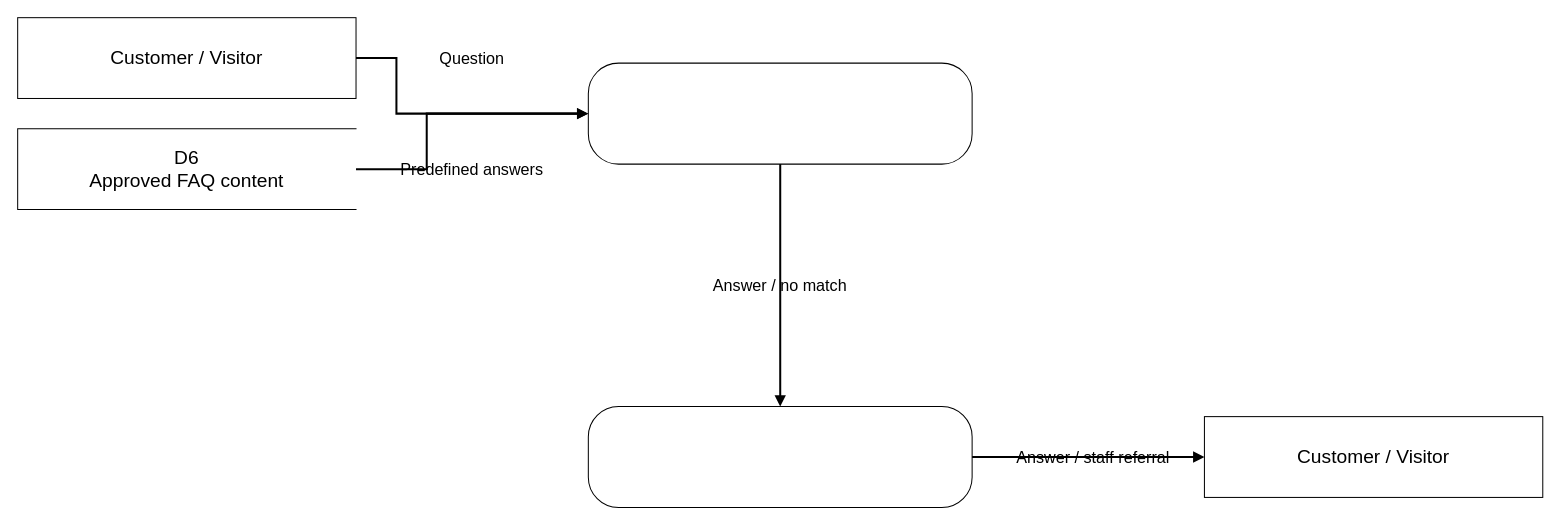
Image size: 1560x525. Some labels were removed from this diagram. Each missing label, with the box of its shape:
6.1 Find a predefined answer: (587, 62, 972, 164)
6.2 Show answer or refer to staff: (587, 406, 972, 508)
